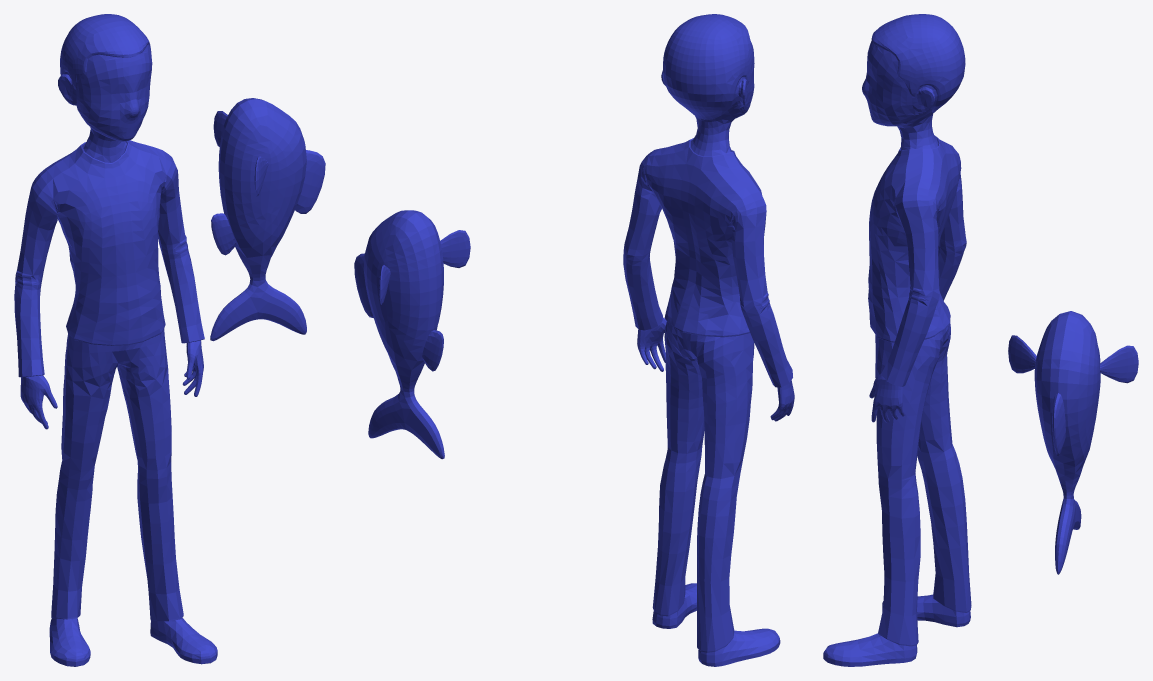
File: body.dae
The picture shows the model from 3 angles, left to right: view 1: azimuth 30°, elevation 25°; view 2: azimuth 150°, elevation 25°; view 3: azimuth 270°, elevation 25°; orthographic projection.
Visible parts, largest first — view 1: body, fish; view 2: body, fish; view 3: body, fish.
Boxes of the visible parts, box(x1,y1,x2,y2) form: body: box(14, 14, 217, 666); fish: box(210, 98, 325, 341); body: box(623, 14, 794, 666); fish: box(354, 210, 470, 459); body: box(823, 14, 971, 666); fish: box(1008, 311, 1138, 574).
Size of the model in its own units: 0.3048 by 0.4879 by 0.2274.
